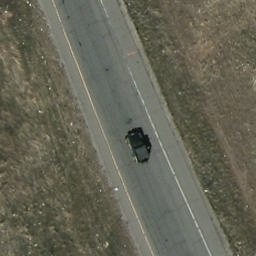car: (124, 129, 155, 166)
